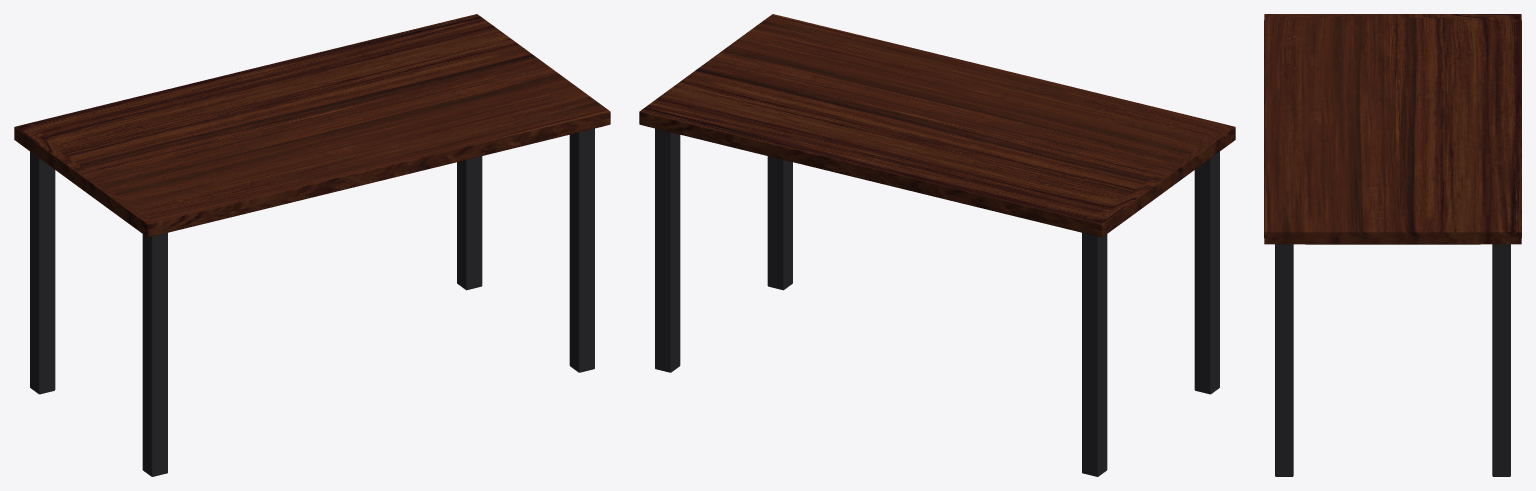
The model's file is scrivania1.glb.
The picture shows the model from 3 angles, left to right: view 1: azimuth 30°, elevation 25°; view 2: azimuth 150°, elevation 25°; view 3: azimuth 270°, elevation 25°; orthographic projection. The views are drawn at different scales.
Parts seen in each view (by area): view 1: Piano_Scrivania, Gamba_4, Gamba_3, Gamba_2, Gamba_1; view 2: Piano_Scrivania, Gamba_2, Gamba_1, Gamba_4, Gamba_3; view 3: Piano_Scrivania, Gamba_1, Gamba_3.
Boxes of the visible parts, left/top/right/bottom form: Piano_Scrivania: left=14, top=14, right=610, bottom=237; Gamba_4: left=142, top=232, right=167, bottom=476; Gamba_3: left=569, top=128, right=594, bottom=372; Gamba_2: left=30, top=151, right=55, bottom=394; Gamba_1: left=457, top=156, right=482, bottom=290; Piano_Scrivania: left=639, top=14, right=1235, bottom=237; Gamba_2: left=1082, top=232, right=1107, bottom=476; Gamba_1: left=655, top=128, right=680, bottom=372; Gamba_4: left=1194, top=151, right=1219, bottom=394; Gamba_3: left=767, top=156, right=792, bottom=290; Piano_Scrivania: left=1264, top=14, right=1521, bottom=244; Gamba_1: left=1492, top=244, right=1510, bottom=476; Gamba_3: left=1275, top=244, right=1293, bottom=476.
Size of the model in its own units: 1.4 by 0.75 by 0.6999.
2 materials, 1 textured.
